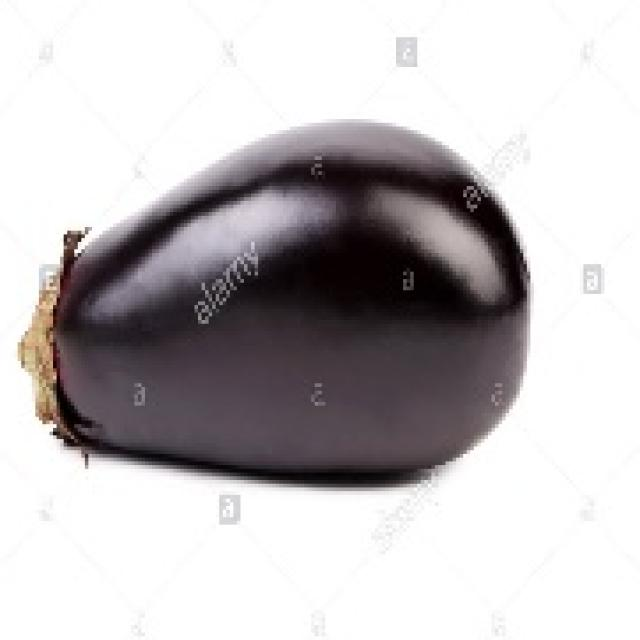eggplant: (46, 112, 534, 480)
